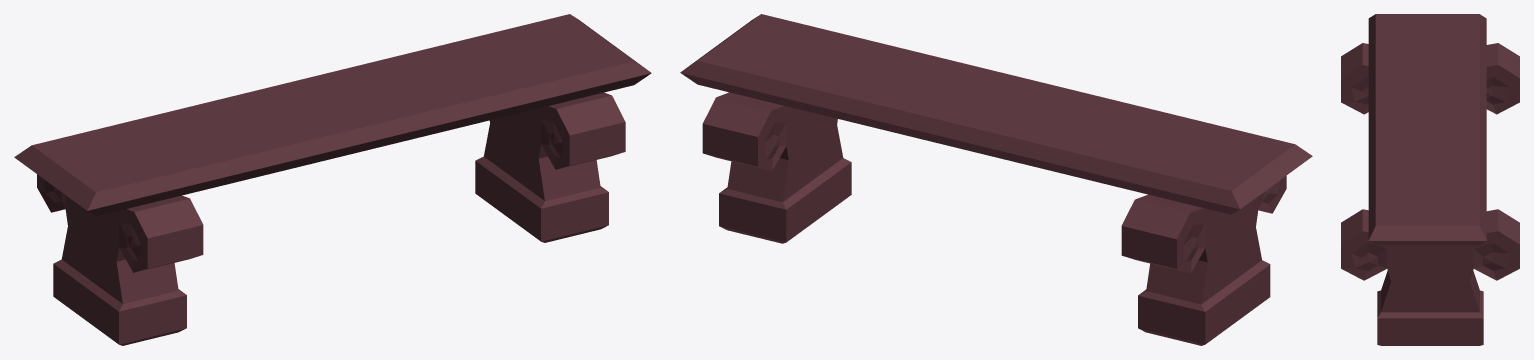
Rendered from SM_Bench_Empire.fbx.
3 views of the same model, side by side, from view 1: azimuth 30°, elevation 25°; view 2: azimuth 150°, elevation 25°; view 3: azimuth 270°, elevation 25° (orthographic). The views are drawn at different scales.
Parts seen in each view (by area): view 1: SM_Bench_Empire; view 2: SM_Bench_Empire; view 3: SM_Bench_Empire.
Boxes of the visible parts, <box> form: SM_Bench_Empire: <box>14,14,651,345</box>; SM_Bench_Empire: <box>680,14,1312,345</box>; SM_Bench_Empire: <box>1341,14,1519,345</box>.
Bounding box in the file's own units: 2.12 × 0.5875 × 0.722.
